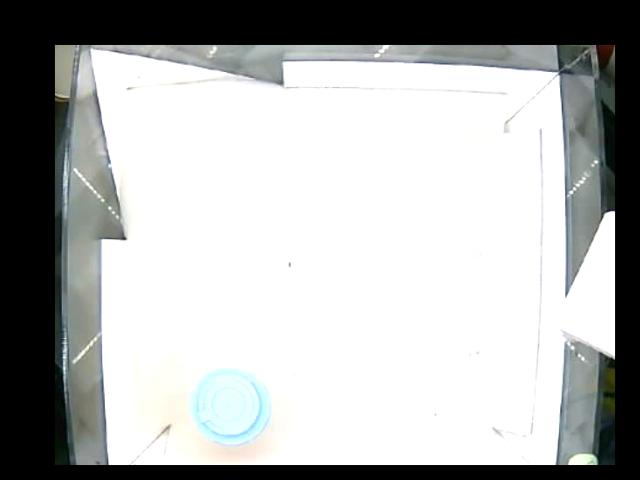Bottle: (389, 146, 521, 281)
Cup: (189, 366, 274, 443)
